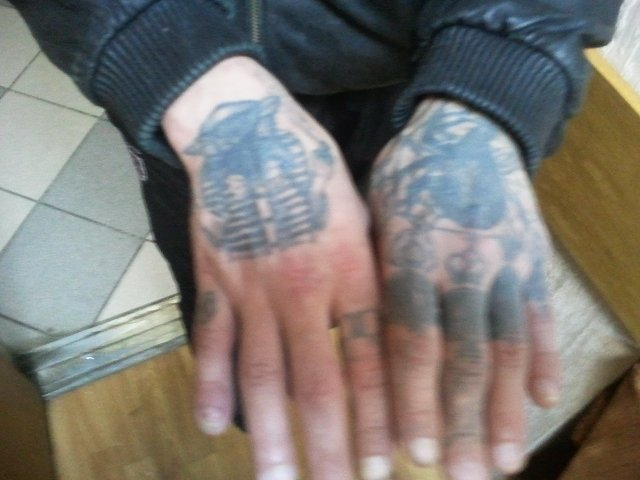tatu8_kot: (181, 87, 336, 256)
